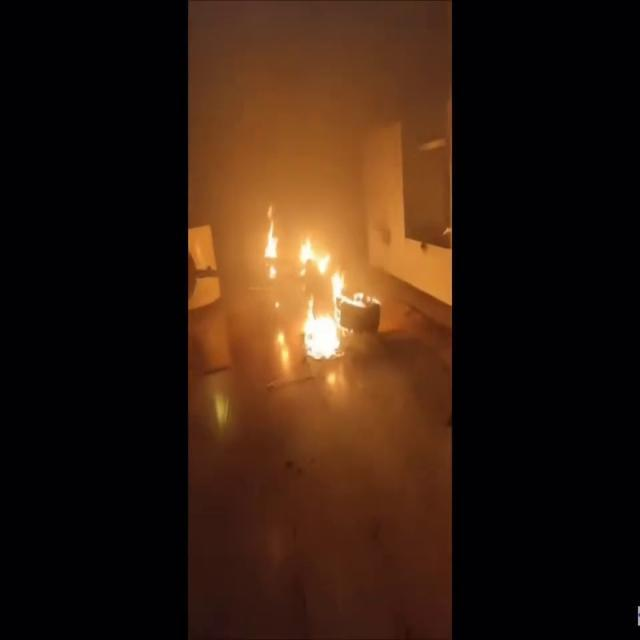Fire: (264, 212, 369, 370)
